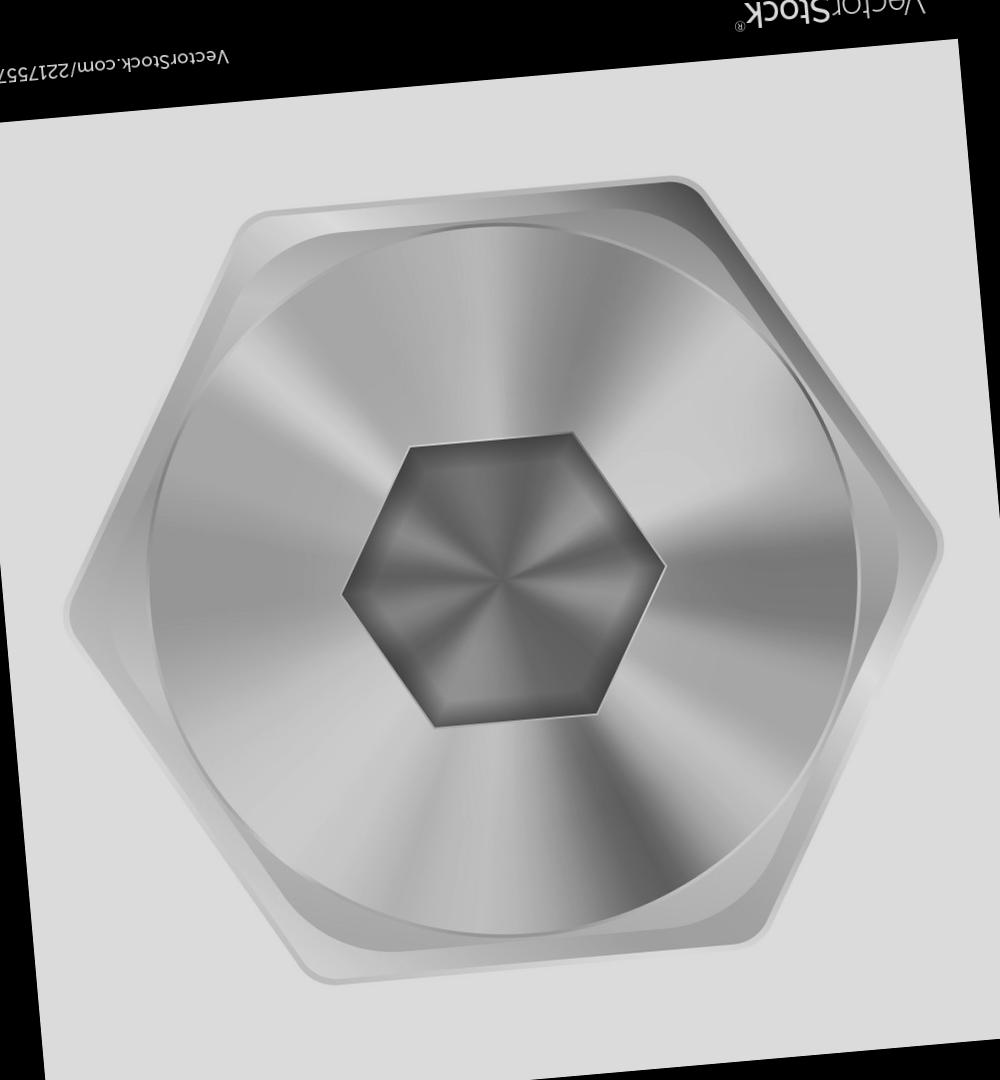hexagonal: (33, 150, 979, 1004)
